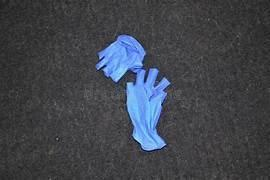Glove: (127, 68, 169, 150), (96, 35, 144, 81)
